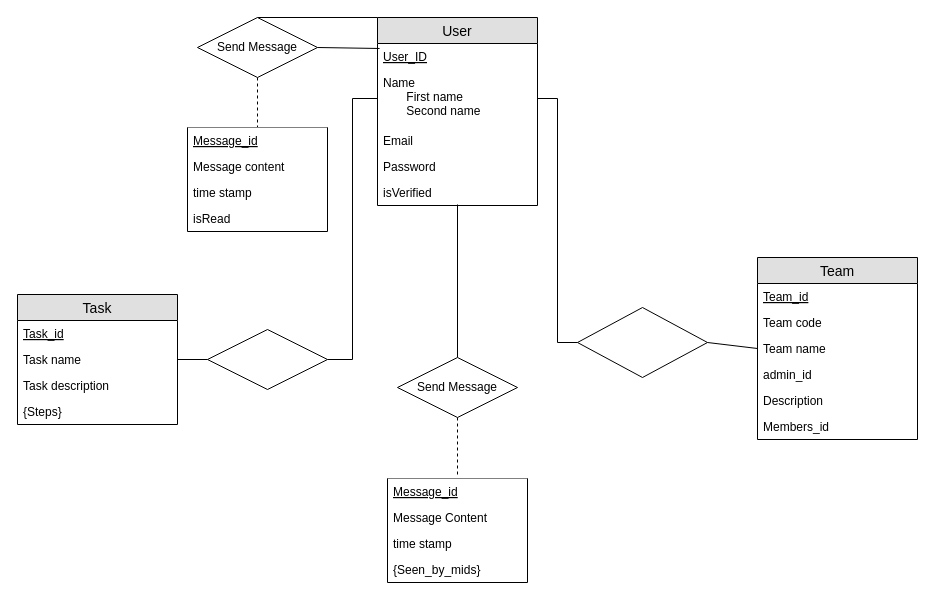
Some shapes in this 935 by 603 pixel diagram are drawn without their labels. The shapes that lost their labels are listed below. From the top down, each one's centre as x and y in pixels, then its label:
At point (267, 359): "Assign".
At point (642, 342): "is a member of".
